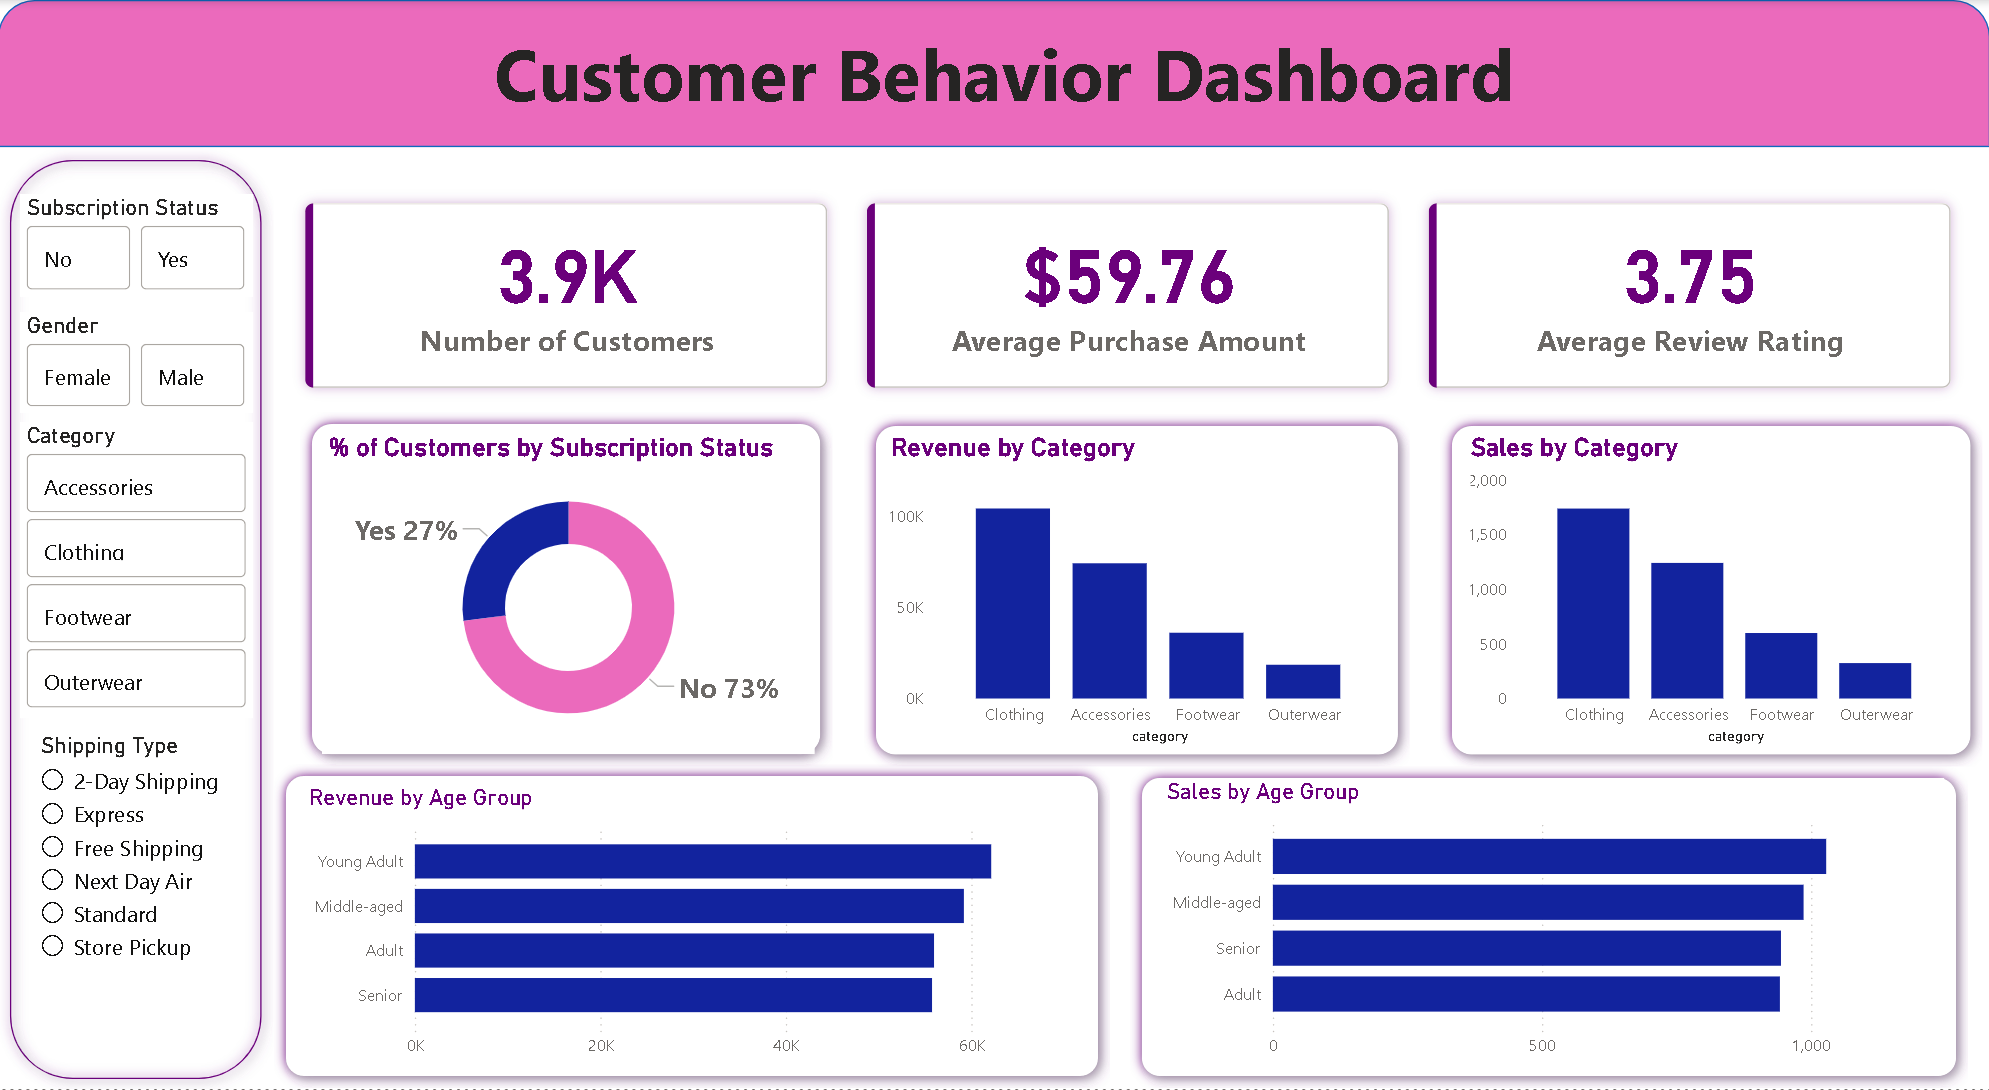

This screenshot's page, from the dashboard's own definition file:
{"tool":"powerbi","page":{"name":"Page 1","canvas":[1500,820],"ordinal":0},"visuals":[{"type":"cardVisual","fields":{"Data":["public customer.Number of Customers","public customer.Average Purchase Amount","public customer.Average Review Rating"]},"box":[203.6,125,1296.4,195.9],"z":0},{"type":"shape","box":[0,0,1500,110.8],"z":1000},{"type":"textbox","box":[0,12.9,1500,82.5],"z":2000},{"type":"shape","box":[228.1,310.6,400.8,266.8],"z":3000},{"type":"donutChart","title":"% of Customers by Subscription Status","fields":{"Category":["public customer.subscription_status"],"Y":["Count(public customer.customer_id)"]},"box":[243.6,324.7,371.1,242.3],"z":4000},{"type":"shape","box":[652.1,311.9,411.1,265.5],"z":5000},{"type":"shape","box":[1086.3,311.9,408.5,265.5],"z":6000},{"type":"clusteredColumnChart","title":"Revenue by Category","fields":{"Category":["public customer.category"],"Y":["Sum(public customer.purchase_amount)"]},"box":[667.5,326,380.2,239.7],"z":7000},{"type":"clusteredColumnChart","title":"Sales by Category","fields":{"Category":["public customer.category"],"Y":["CountNonNull(public customer.customer_id)"]},"box":[1104.4,326,372.4,239.7],"z":8000},{"type":"shape","box":[0,110.8,207.5,710.1],"z":9000},{"type":"advancedSlicerVisual","fields":{"Values":["public customer.subscription_status"]},"box":[16.8,145.6,175.3,77.3],"z":10000},{"type":"advancedSlicerVisual","fields":{"Values":["public customer.gender"]},"box":[16.8,234.5,175.3,76],"z":11000},{"type":"advancedSlicerVisual","fields":{"Values":["public customer.category"]},"box":[16.8,318.3,175.3,222.9],"z":12000},{"type":"listSlicer","fields":{"Values":["public customer.shipping_type"]},"box":[27.1,551.5,153.4,228.1],"z":13000},{"type":"barChart","title":"Revenue by Age Group","fields":{"Y":["Sum(public customer.purchase_amount)"],"Category":["public customer.age_group"]},"box":[228.9,590.4,588.9,215.4],"z":14000},{"type":"shape","box":[207.8,575.3,629.5,244],"z":15000},{"type":"barChart","title":"Sales by Age Group","fields":{"Y":["CountNonNull(public customer.customer_id)"],"Category":["public customer.age_group"]},"box":[875,591.9,588.9,215.4],"z":16000},{"type":"shape","box":[852.4,576.8,631,242.5],"z":16001},{"type":"barChart","title":"Sales by Age Group","fields":{"Category":["public customer.age_group"],"Y":["CountNonNull(public customer.customer_id)"]},"box":[875,585.8,590.4,219.9],"z":16002},{"type":"barChart","title":"Revenue by Age Group","fields":{"Category":["public customer.age_group"],"Y":["Sum(public customer.purchase_amount)"]},"box":[228.9,590.4,588.9,215.4],"z":16003}]}

Visuals, with their boxes in screenshot pixels (x1, y1, x2, y2), scaled from the page's 1500x820 canvas onto the 1989x1090 screenshot:
cardVisual - public customer.Number of Customers x public customer.Average Purchase Amount: x1=270 y1=166 x2=1988 y2=427
shape: x1=0 y1=0 x2=1988 y2=147
textbox: x1=0 y1=17 x2=1988 y2=127
shape: x1=302 y1=413 x2=834 y2=768
"% of Customers by Subscription Status" donutChart: x1=323 y1=432 x2=815 y2=754
shape: x1=865 y1=415 x2=1410 y2=768
shape: x1=1440 y1=415 x2=1982 y2=768
"Revenue by Category" clusteredColumnChart: x1=885 y1=433 x2=1389 y2=752
"Sales by Category" clusteredColumnChart: x1=1464 y1=433 x2=1958 y2=752
shape: x1=0 y1=147 x2=275 y2=1089
advancedSlicerVisual - public customer.subscription_status: x1=22 y1=194 x2=255 y2=296
advancedSlicerVisual - public customer.gender: x1=22 y1=312 x2=255 y2=413
advancedSlicerVisual - public customer.category: x1=22 y1=423 x2=255 y2=719
listSlicer - public customer.shipping_type: x1=36 y1=733 x2=239 y2=1036
"Revenue by Age Group" barChart: x1=304 y1=785 x2=1084 y2=1071
shape: x1=276 y1=765 x2=1110 y2=1089
"Sales by Age Group" barChart: x1=1160 y1=787 x2=1941 y2=1073
shape: x1=1130 y1=767 x2=1967 y2=1089
"Sales by Age Group" barChart: x1=1160 y1=779 x2=1943 y2=1071
"Revenue by Age Group" barChart: x1=304 y1=785 x2=1084 y2=1071
